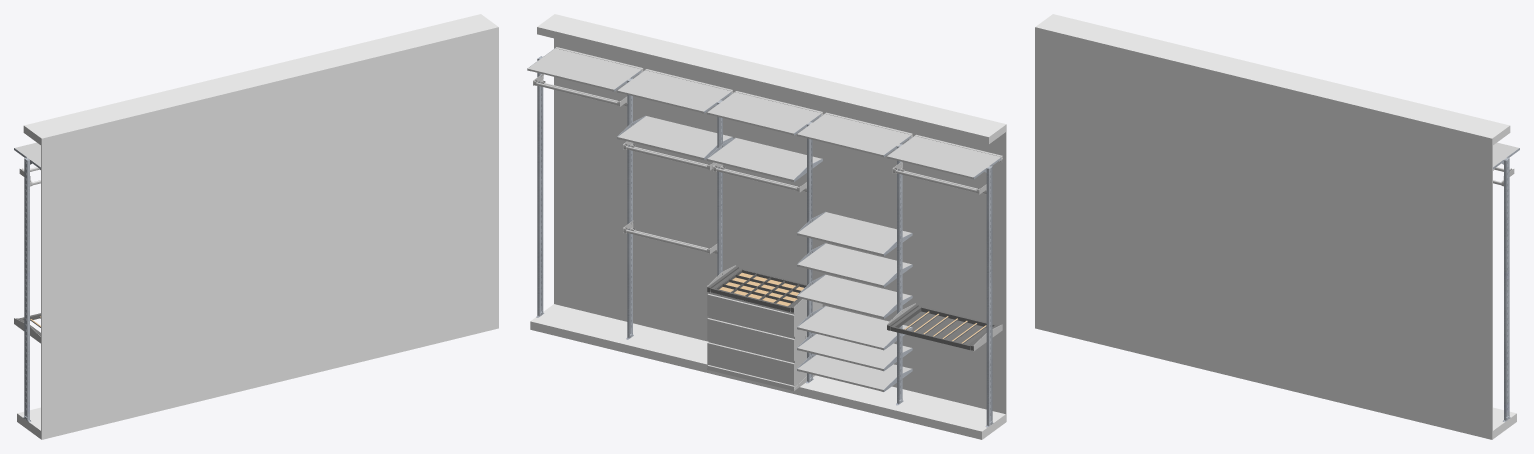
3 views of the same model, side by side, from view 1: azimuth 30°, elevation 25°; view 2: azimuth 150°, elevation 25°; view 3: azimuth 330°, elevation 25° (orthographic).
Parts seen in each view (by area): view 1: Geom3D_, Geom3D_组件#2; view 2: Geom3D_, Geom3D_组件#15_木层板（中间） copy 001 (×8), Geom3D_组件#16 (×5), Geom3D_组件#2 (×6), Geom3D_组件#4_柜子 copy 002, Geom3D (×3), Geom3D_组件#11 (×5); view 3: Geom3D_, Geom3D_组件#2.
Part boxes in pixels (x1=…): Geom3D_: x1=17, y1=14, x2=498, y2=439; Geom3D_组件#2: x1=23, y1=157, x2=30, y2=421; Geom3D_: x1=530, y1=14, x2=1006, y2=439; Geom3D_组件#15_木层板（中间） copy 001 (×8): x1=617, y1=116, x2=911, y2=391; Geom3D_组件#16 (×5): x1=527, y1=47, x2=1002, y2=178; Geom3D_组件#2 (×6): x1=536, y1=56, x2=993, y2=427; Geom3D_组件#4_柜子 copy 002: x1=707, y1=292, x2=822, y2=390; Geom3D (×3): x1=707, y1=266, x2=1000, y2=350; Geom3D_组件#11 (×5): x1=533, y1=74, x2=986, y2=253; Geom3D_: x1=1035, y1=14, x2=1516, y2=439; Geom3D_组件#2: x1=1503, y1=157, x2=1510, y2=421.
Bounding box in the file's own units: 4.53 × 2.85 × 0.5216.
Materials: 4 (1 with a texture image).
